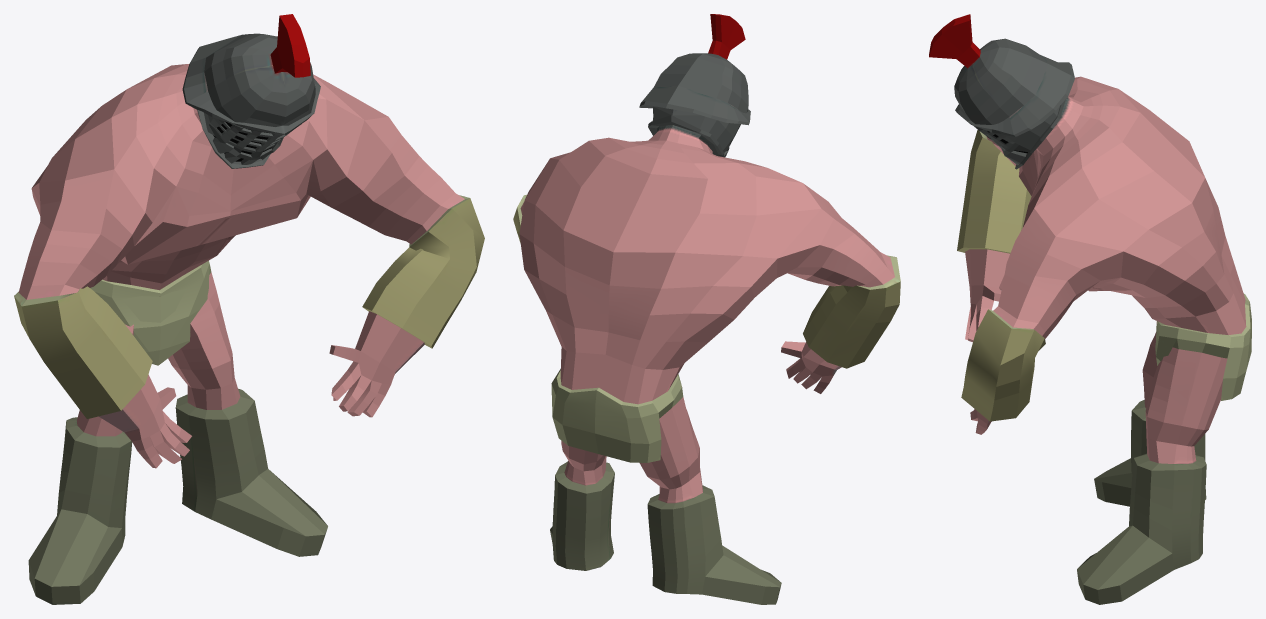
File: GladiatorCelebracion_000467.obj
The picture shows the model from 3 angles, left to right: view 1: azimuth 30°, elevation 25°; view 2: azimuth 150°, elevation 25°; view 3: azimuth 270°, elevation 25°; orthographic projection. The views are drawn at different scales.
Parts seen in each view (by area): view 1: Gadiador_Gladiador_H; view 2: Gadiador_Gladiador_H; view 3: Gadiador_Gladiador_H.
Part boxes in pixels (box(x1,y1,x2,y2)): Gadiador_Gladiador_H: box(14, 14, 484, 604); Gadiador_Gladiador_H: box(513, 14, 900, 604); Gadiador_Gladiador_H: box(929, 14, 1251, 604).
Size of the model in its own units: 5.09 by 6.48 by 3.51.
Materials: 1 (1 with a texture image).
